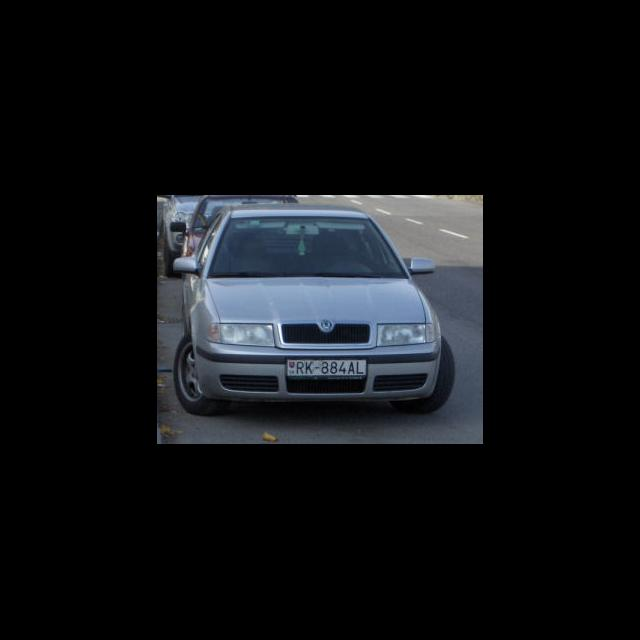Plate: (285, 358, 367, 378)
